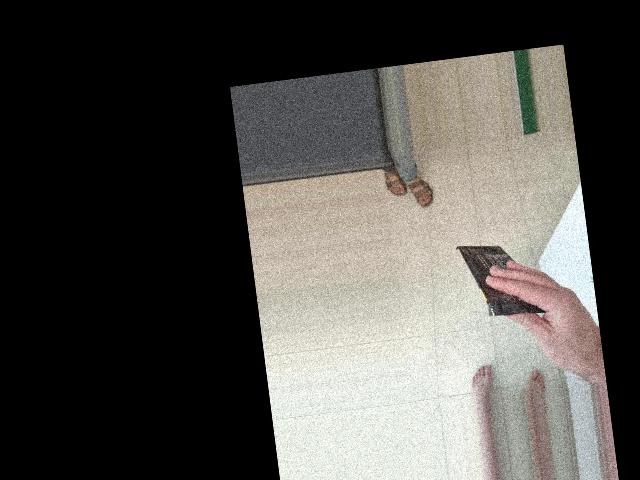chocolate: (395, 200, 491, 308)
